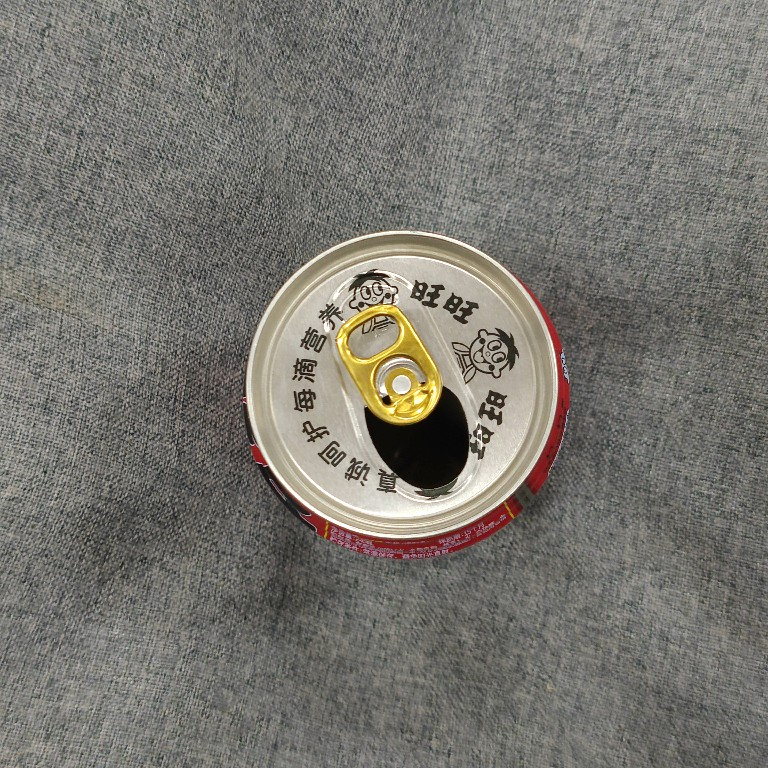can: (240, 225, 573, 563)
